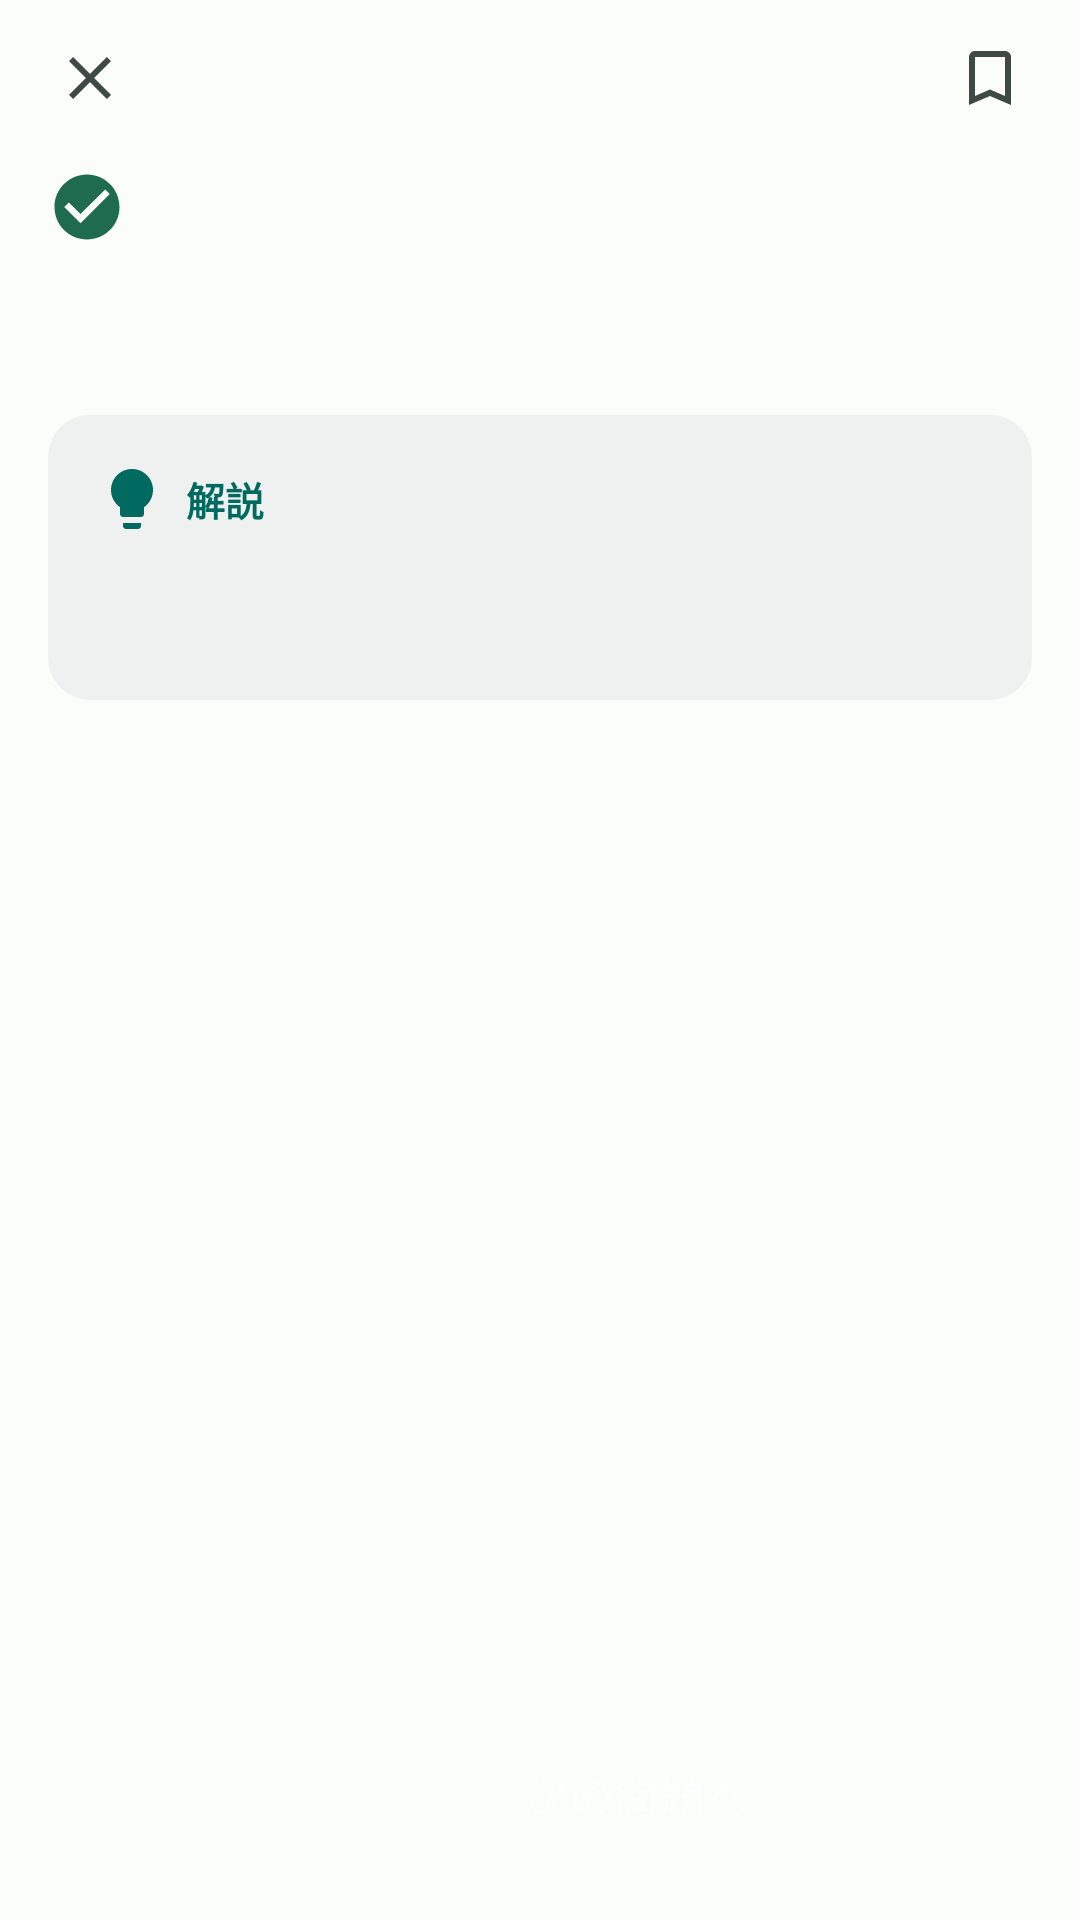

Icon click points for this 1080*1920 phone screenshot, format (x=x, y=y):
check circle: (x=87, y=207)
ブックマーク: (x=990, y=78)
閉じる: (x=90, y=78)
